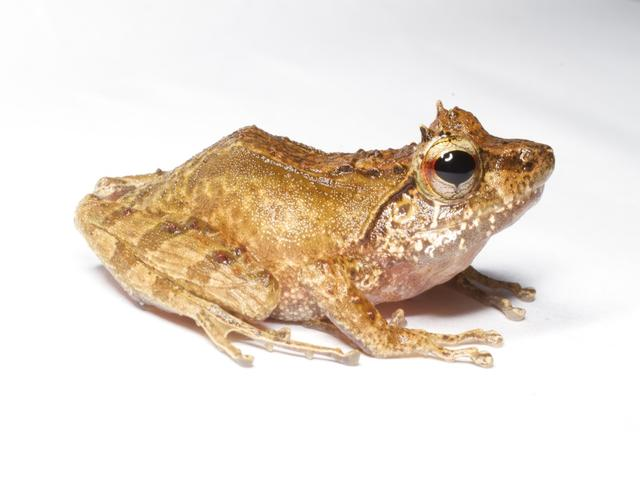frog: (35, 46, 576, 406)
